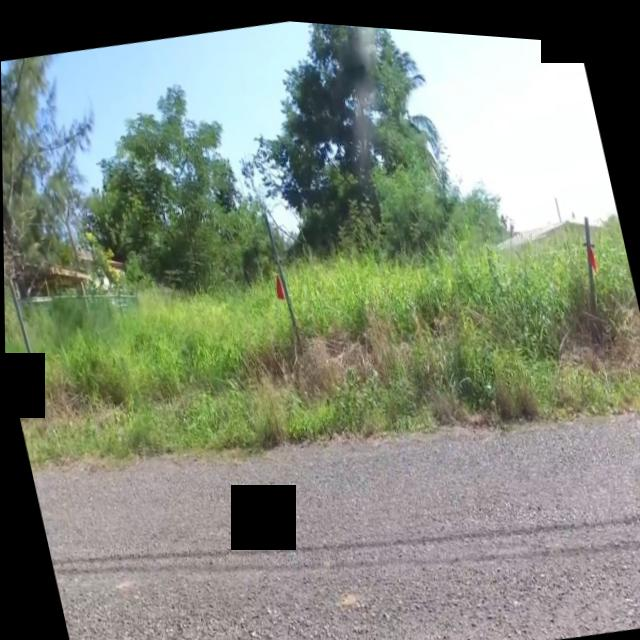Pole: (254, 199, 306, 351), (563, 203, 617, 315), (4, 276, 46, 396)
